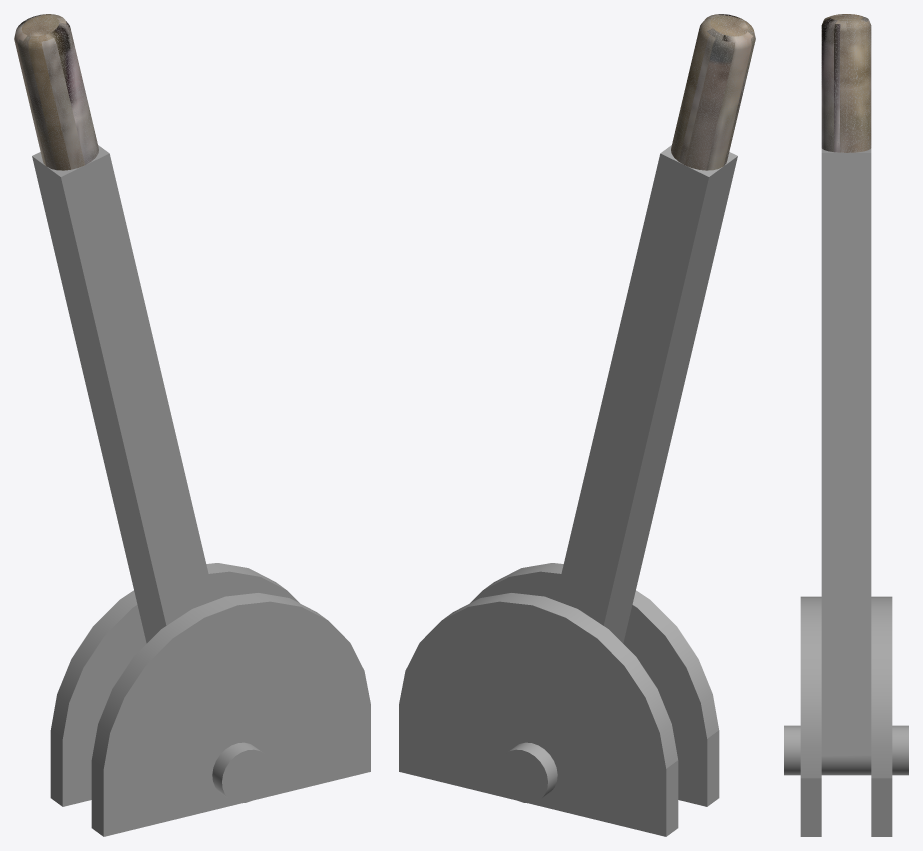
Rendered from steering_lever.dae.
3 views of the same model, side by side, from view 1: azimuth 30°, elevation 25°; view 2: azimuth 150°, elevation 25°; view 3: azimuth 270°, elevation 25° (orthographic). The views are drawn at different scales.
Parts seen in each view (by area): view 1: group_2 (×3), group_0, group_1; view 2: group_2 (×4), group_1, group_0; view 3: group_2 (×3), group_0, group_1.
Boxes of the visible parts, x1,y1,x2,y2 form: group_2 (×3): [14, 14, 271, 803]; group_0: [91, 593, 370, 836]; group_1: [50, 563, 299, 806]; group_2 (×4): [498, 14, 755, 803]; group_1: [399, 593, 678, 836]; group_0: [470, 563, 719, 806]; group_2 (×3): [784, 14, 908, 775]; group_0: [800, 596, 821, 836]; group_1: [871, 596, 892, 836].
Size of the model in its own units: 15.39 by 5.91 by 36.26.
2 materials, 1 textured.
